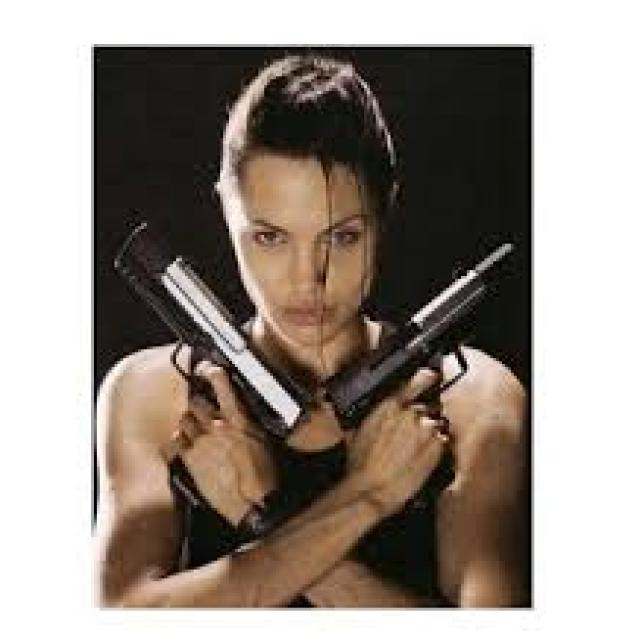gun: (314, 221, 536, 499), (112, 215, 306, 488)
